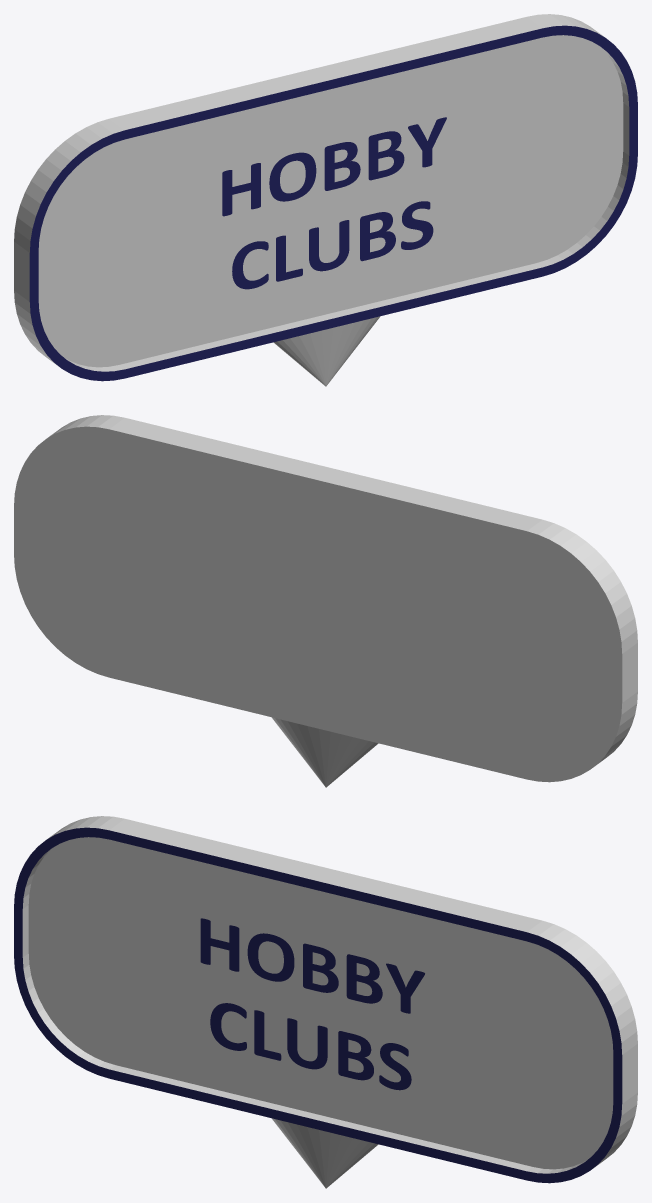
The model's file is HobbyClubsDefault.glb.
The picture shows the model from 3 angles, top to bottom: view 1: azimuth 30°, elevation 25°; view 2: azimuth 150°, elevation 25°; view 3: azimuth 330°, elevation 25°; orthographic projection.
Parts seen in each view (by area): view 1: 立方体, 立方体.001, 立方体.002, 文本, 立方体.004; view 2: 立方体, 立方体.003, 立方体.002, 立方体.004; view 3: 立方体, 立方体.001, 立方体.002, 文本, 立方体.004.
Boxes of the visible parts, x1,y1,x2,y2 form: 立方体: (38, 35, 629, 371); 立方体.001: (29, 25, 637, 381); 立方体.002: (14, 14, 603, 366); 文本: (222, 117, 446, 289); 立方体.004: (273, 316, 380, 386); 立方体: (21, 434, 614, 774); 立方体.003: (14, 426, 622, 782); 立方体.002: (48, 415, 637, 767); 立方体.004: (271, 717, 378, 787); 立方体: (22, 837, 613, 1173); 立方体.001: (14, 827, 622, 1183); 立方体.002: (48, 816, 637, 1168); 文本: (200, 918, 424, 1090); 立方体.004: (271, 1118, 378, 1188).
Bounding box in the file's own units: 5.13 × 2.52 × 0.2745.
